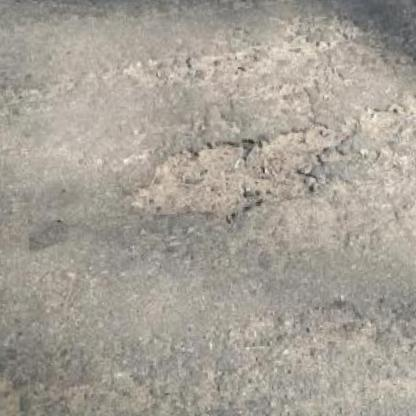pothole: (125, 120, 355, 229)
